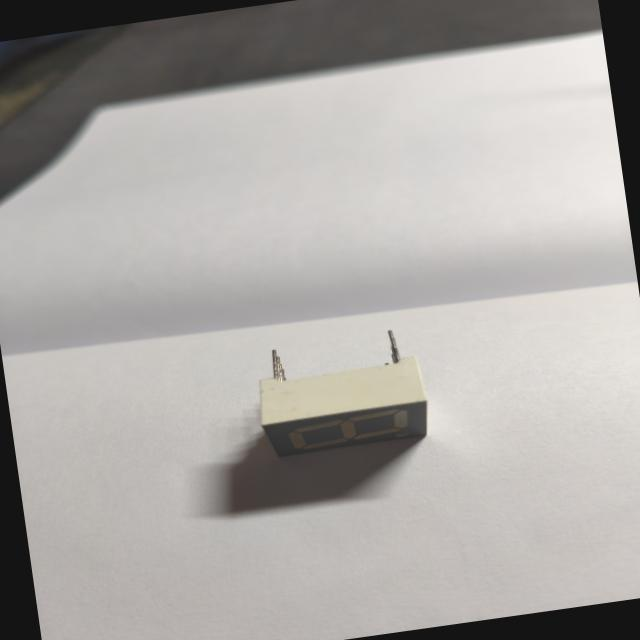sevensegment: (232, 314, 448, 474)
